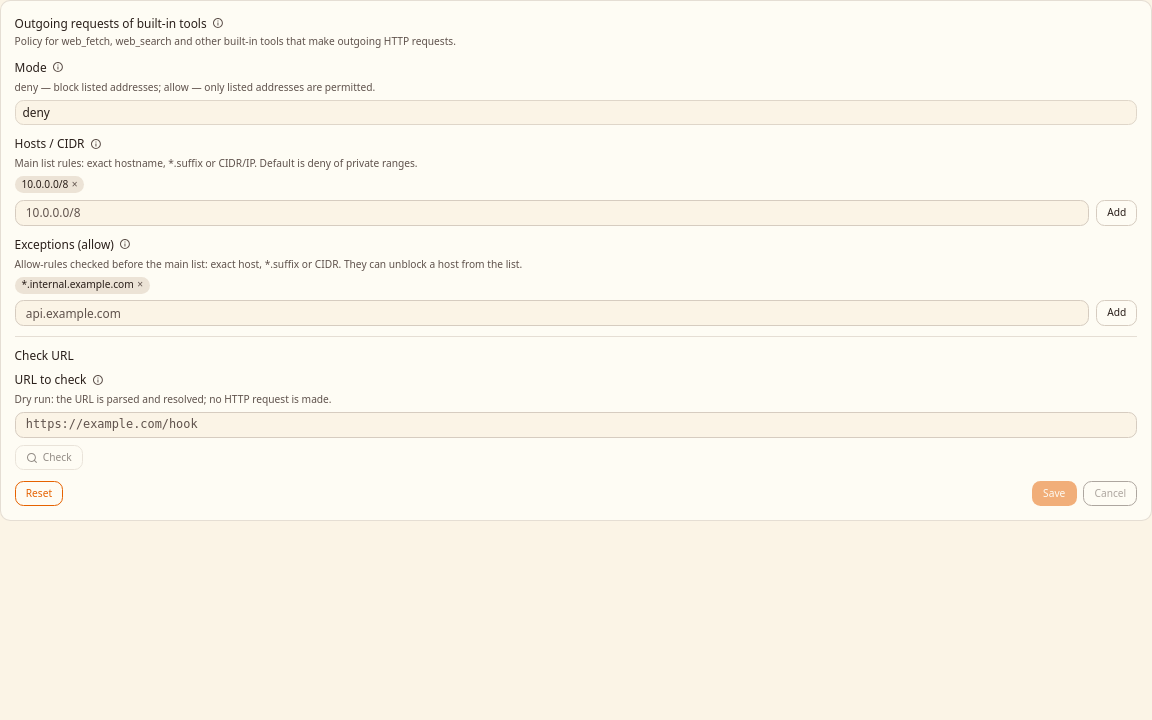
Test case: EgressPolicySection — адресная egress-политика (ADR-071/ADR-072) › Reset вызывает API сброса и возвращает серверный дефолт
Click the button "Reset".
click(39, 494)  # box [15,481,63,506]
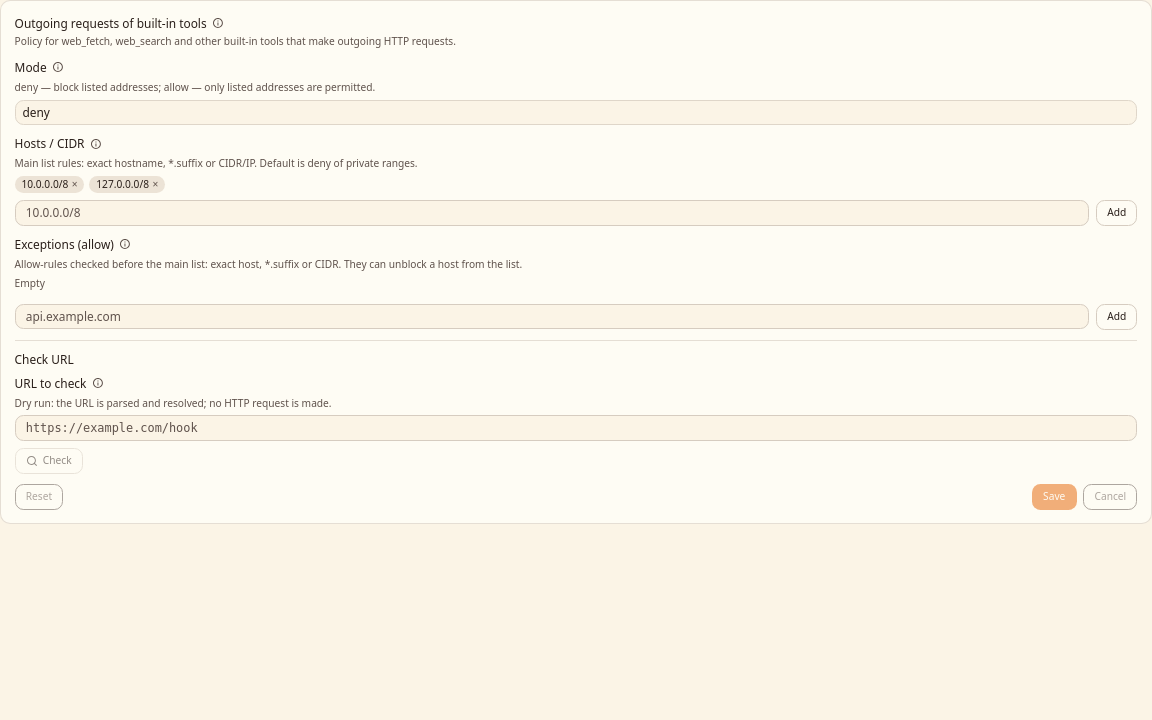
Check: the text "127.0.0.0/8" is shown, box [96,178,149,191]
